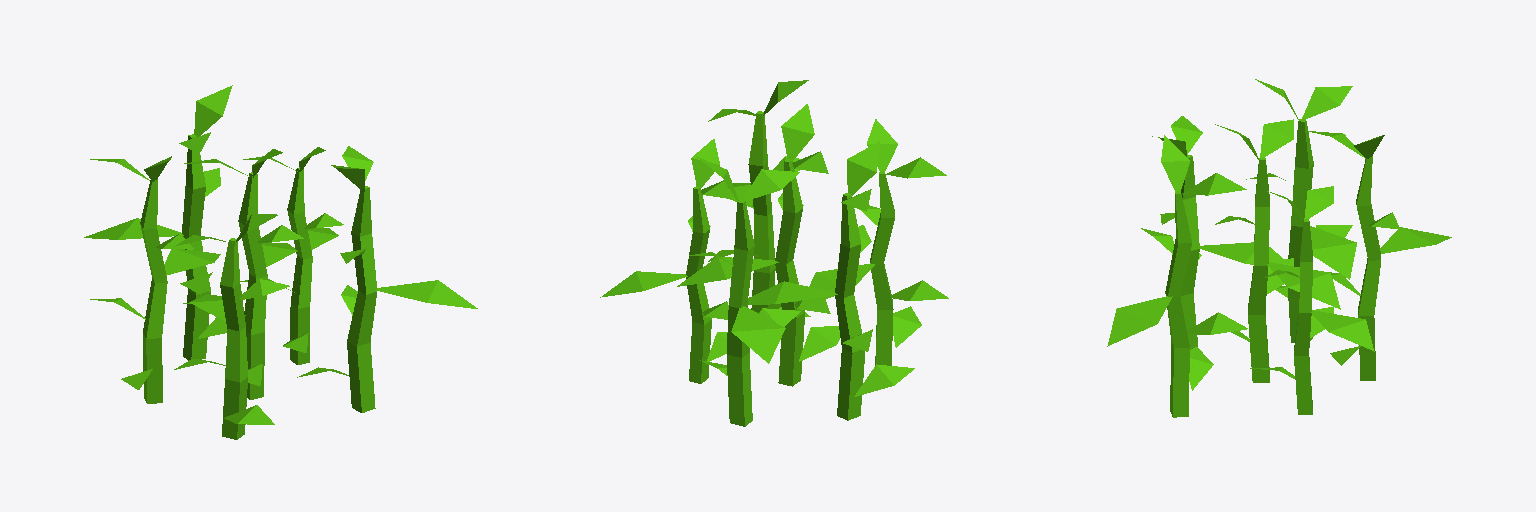
Rendered from Plant.obj.
3 views of the same model, side by side, from view 1: azimuth 30°, elevation 25°; view 2: azimuth 150°, elevation 25°; view 3: azimuth 270°, elevation 25° (orthographic).
Parts seen in each view (by area): view 1: plant; view 2: plant; view 3: plant.
Part boxes in pixels (bbox=[...]): plant: bbox=[84, 85, 477, 439]; plant: bbox=[600, 80, 948, 426]; plant: bbox=[1107, 79, 1451, 417].
Bounding box in the file's own units: 2.35 × 2.13 × 2.57.